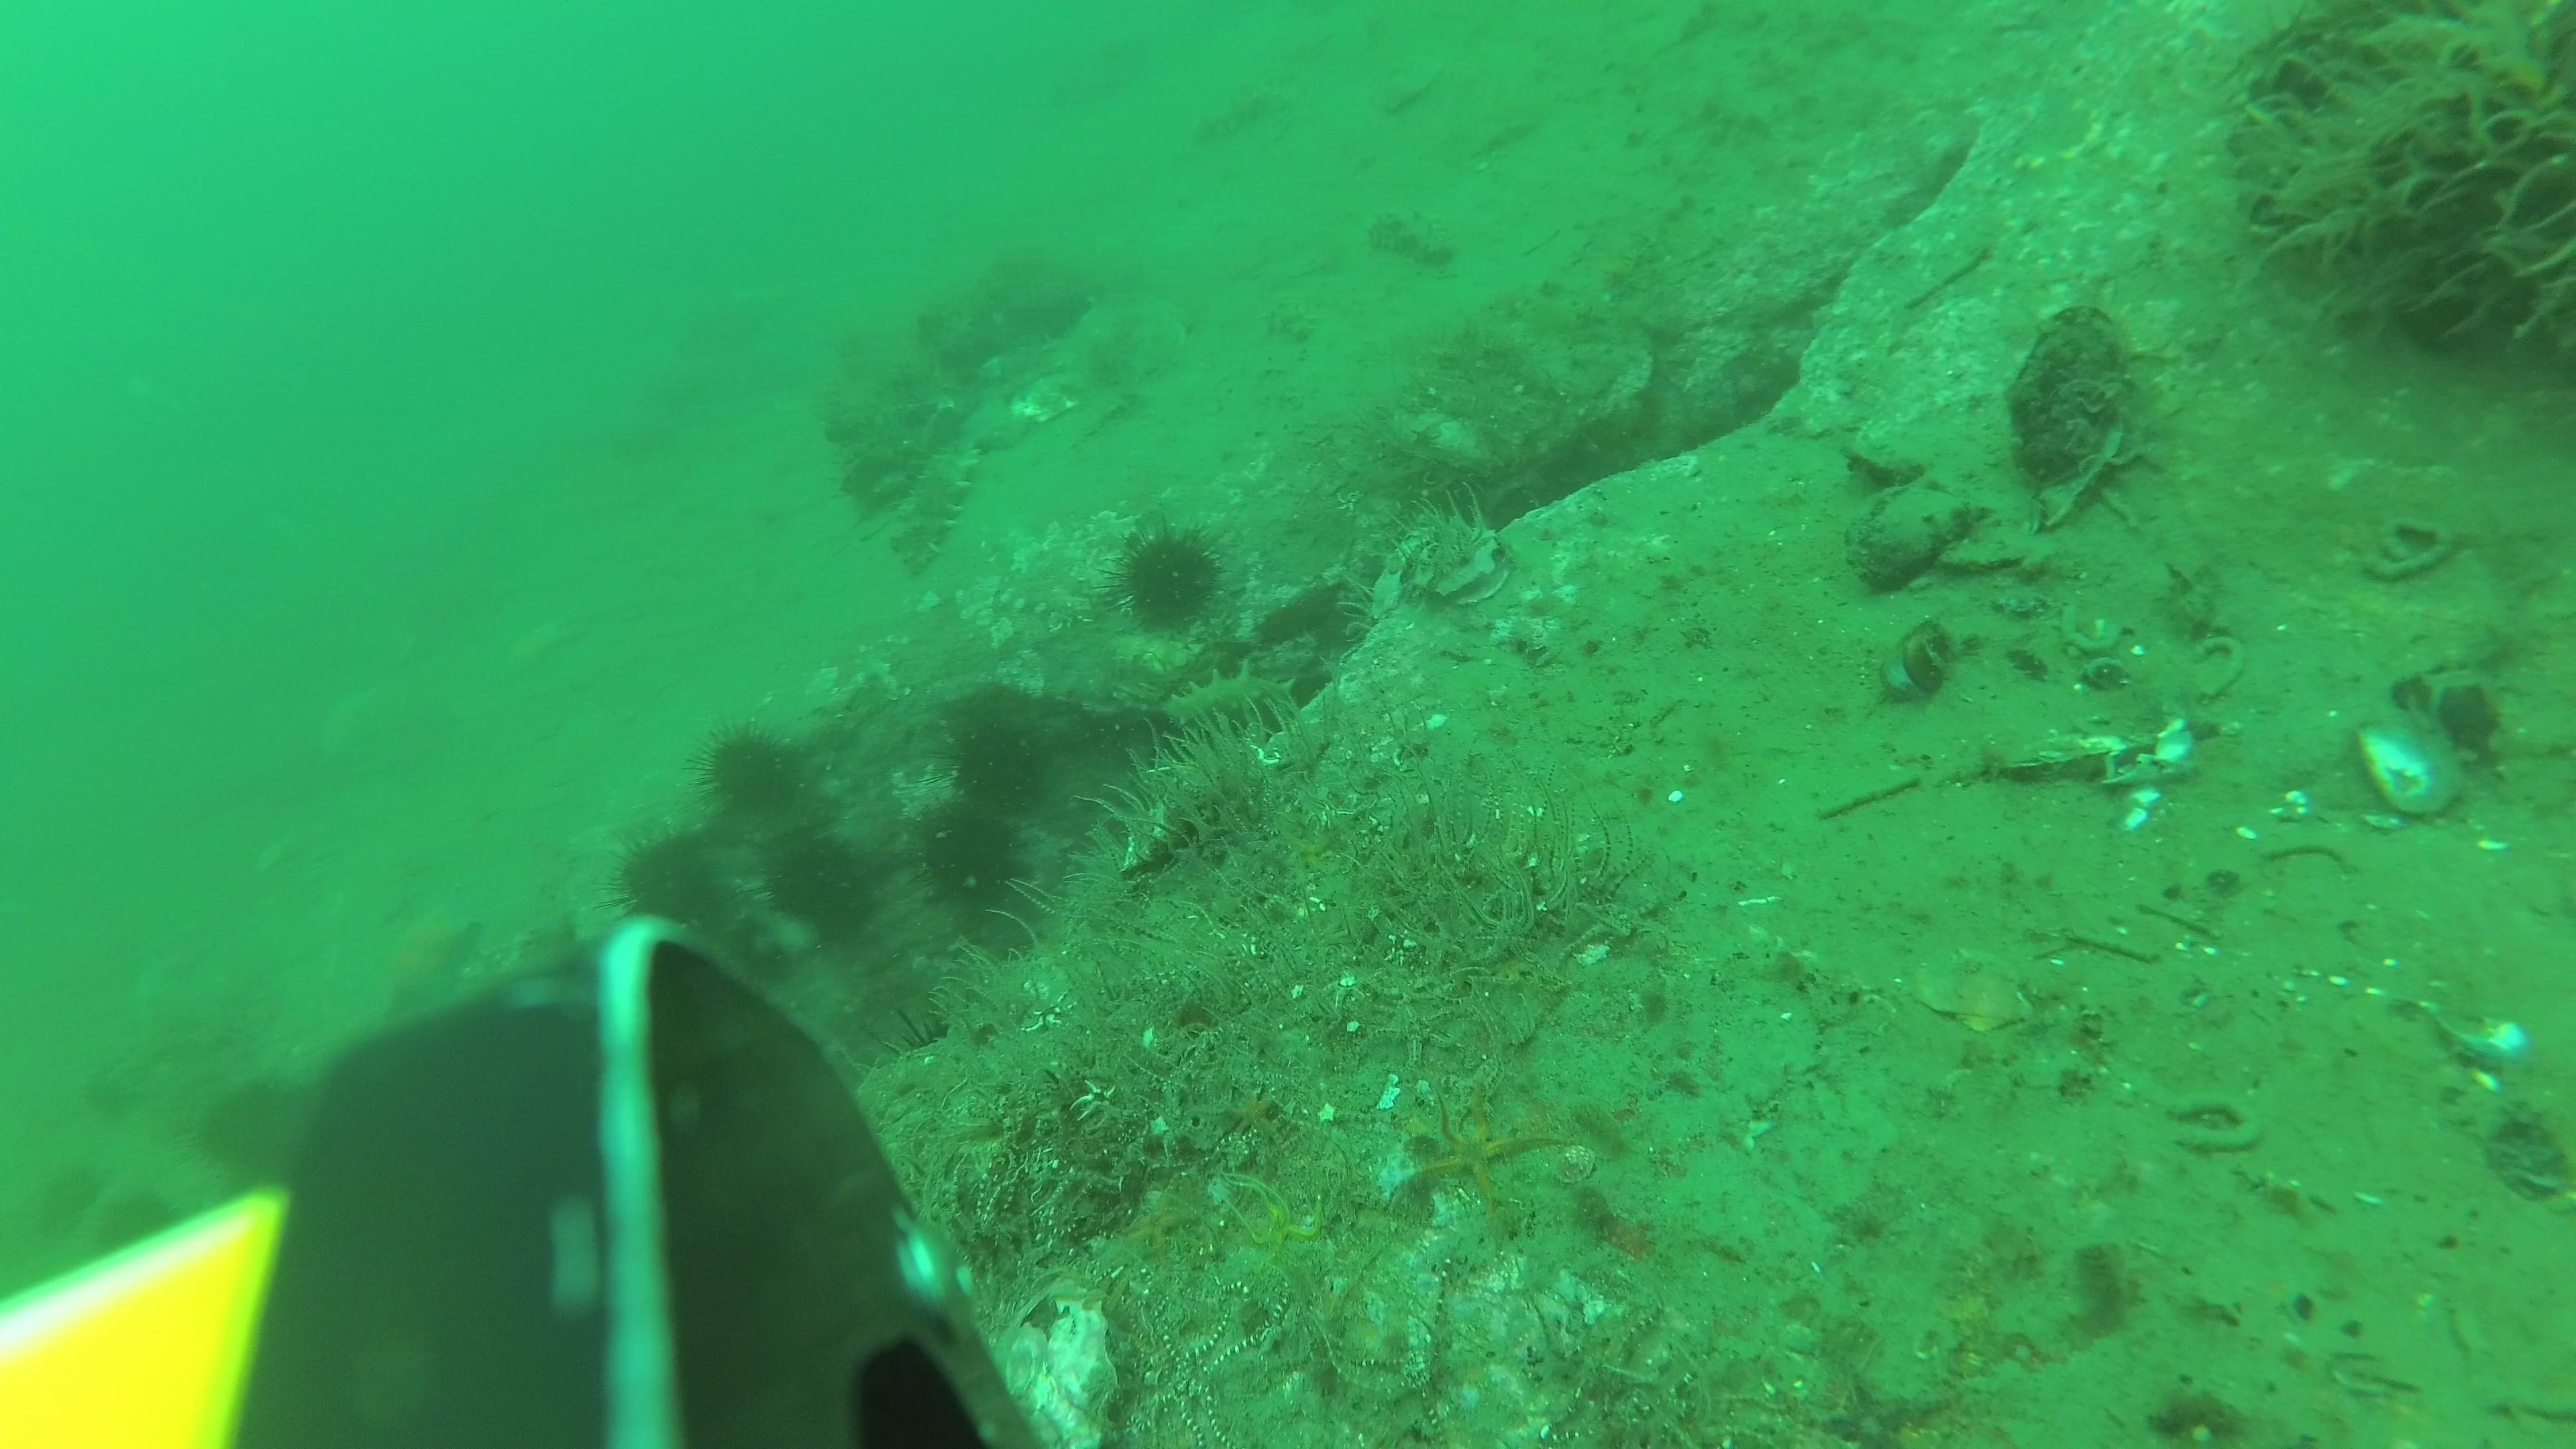echinus: (193, 1072, 318, 1192), (616, 828, 736, 941), (1113, 522, 1224, 633), (766, 835, 876, 941), (920, 805, 1026, 913), (947, 709, 1049, 810), (699, 720, 805, 817)
holothurian: (890, 435, 980, 577), (1155, 667, 1302, 754), (1194, 78, 1292, 150), (837, 439, 918, 517), (1368, 205, 1453, 272), (816, 382, 888, 453), (1265, 299, 1318, 349)
scallop: (1072, 292, 1187, 395), (1911, 952, 2033, 1035), (959, 387, 1033, 455), (1019, 364, 1085, 421), (1380, 57, 1444, 113)
starfish: (1391, 1077, 1562, 1226), (368, 908, 487, 1028), (1210, 1164, 1325, 1260), (1108, 1177, 1207, 1260), (962, 902, 1039, 964)
